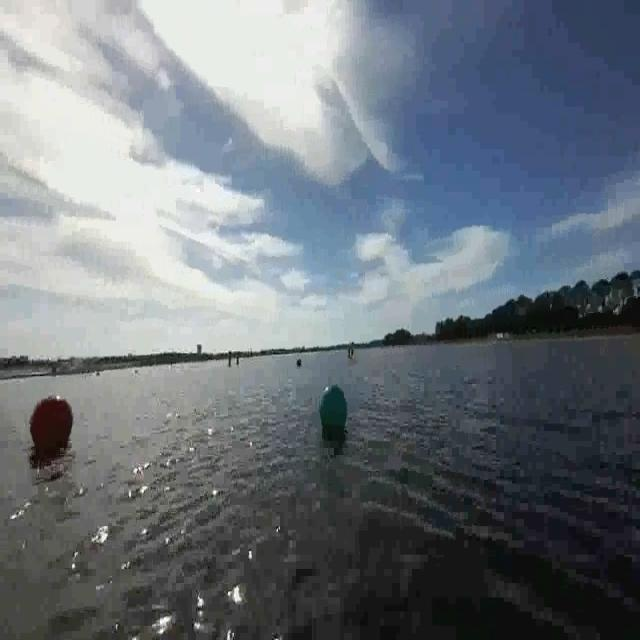blue-buoy: (296, 354, 302, 365)
green-buoy: (318, 383, 349, 432)
red-buoy: (30, 395, 74, 453)
